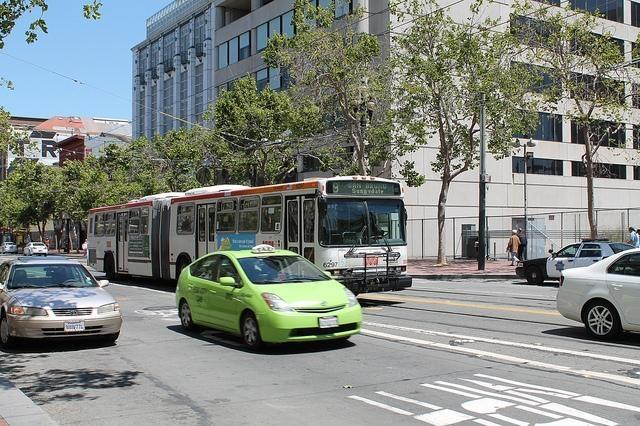bus: (86, 176, 414, 296)
car: (176, 240, 366, 350), (2, 250, 123, 351), (549, 246, 640, 338), (515, 236, 634, 284), (24, 241, 48, 254), (0, 241, 18, 254)
